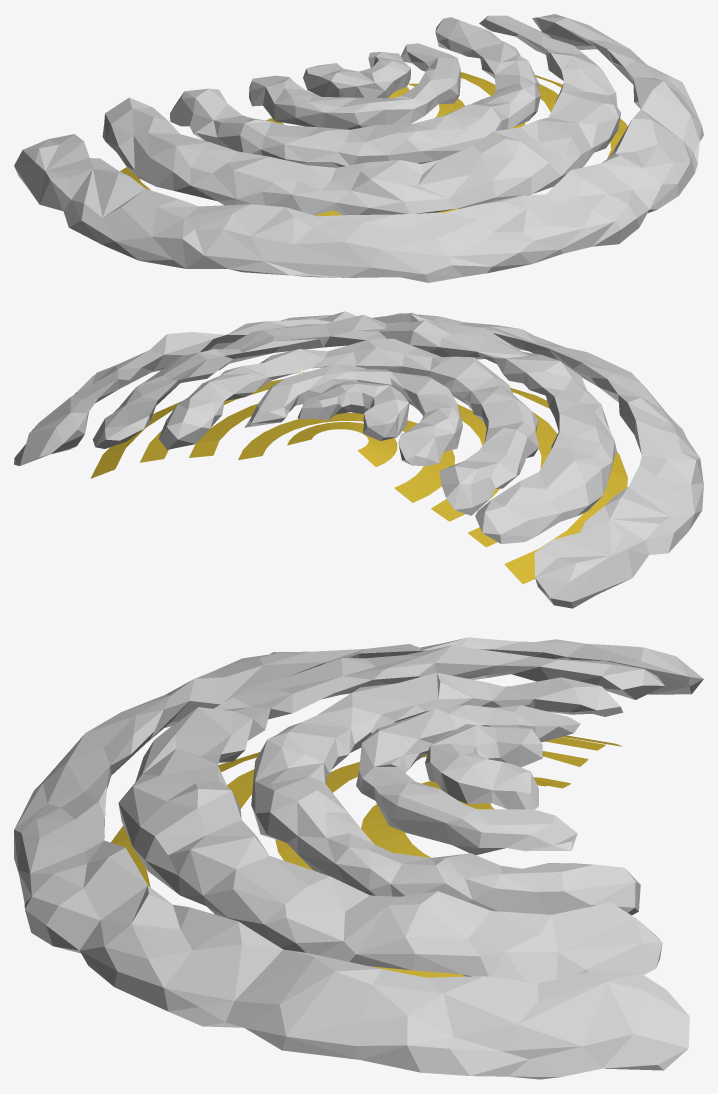
The model's file is TLmushroom_unity.fbx.
3 views of the same model, one above another, from view 1: azimuth 30°, elevation 25°; view 2: azimuth 150°, elevation 25°; view 3: azimuth 270°, elevation 25° (orthographic). The views are drawn at different scales.
Visible parts, largest first — view 1: Cone.008; view 2: Cone.008; view 3: Cone.008.
Part boxes in pixels (bbox=[...]): Cone.008: bbox=[14, 14, 703, 282]; Cone.008: bbox=[14, 311, 703, 608]; Cone.008: bbox=[14, 637, 703, 1079].
Bounding box in the file's own units: 259 × 42.19 × 183.
